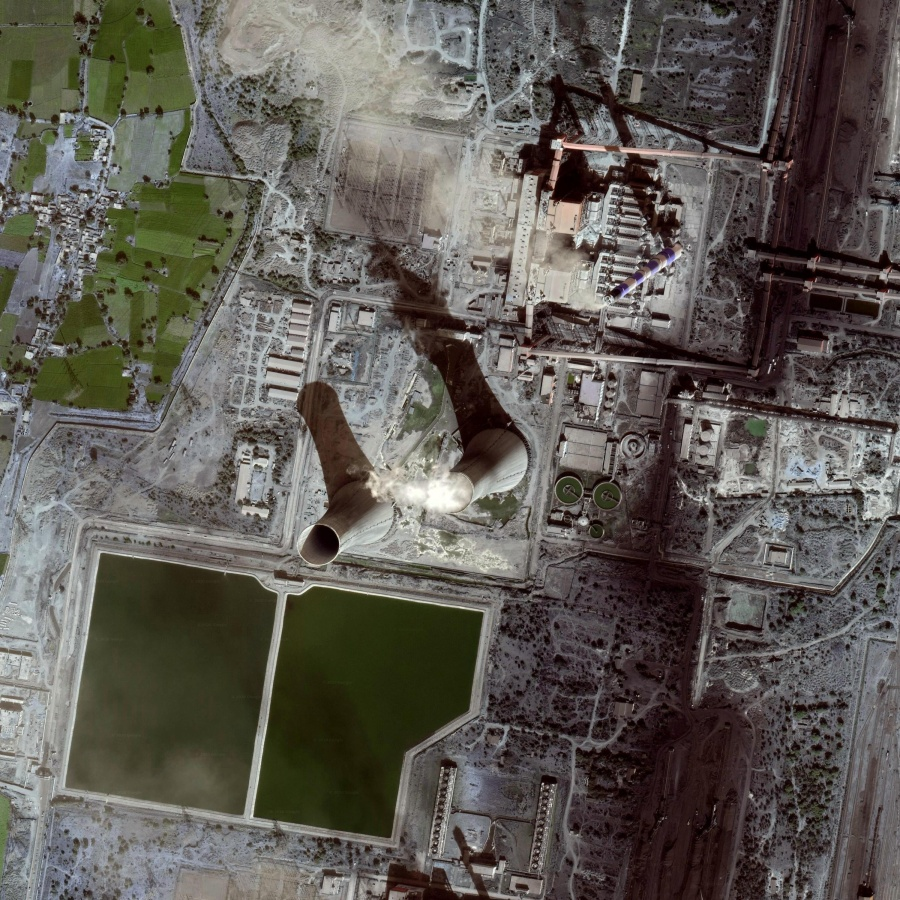PowerPlant: (52, 548, 490, 856)
